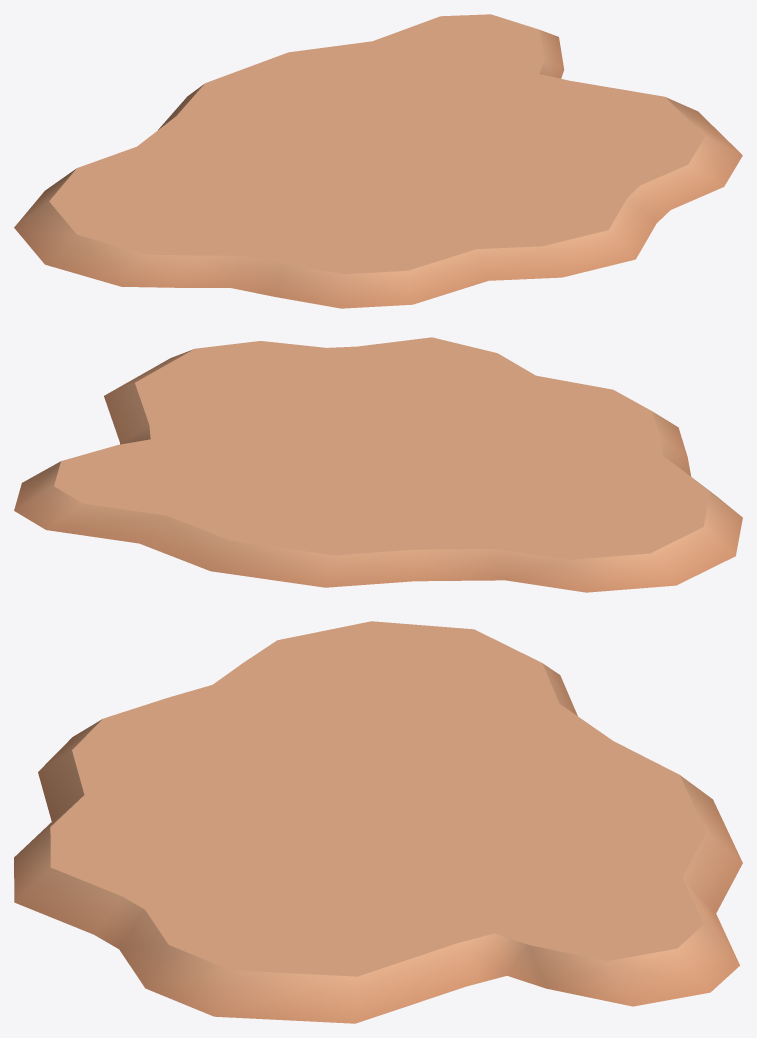
Rendered from patch-sand.glb.
3 renders of one model, top to bottom at view 1: azimuth 30°, elevation 25°; view 2: azimuth 150°, elevation 25°; view 3: azimuth 270°, elevation 25°, orthographic. The views are drawn at different scales.
Parts seen in each view (by area): view 1: patch-sand; view 2: patch-sand; view 3: patch-sand.
Boxes of the visible parts, x1,y1,x2,y2 form: patch-sand: (14, 14, 742, 308); patch-sand: (14, 337, 742, 592); patch-sand: (14, 621, 742, 1023).
Size of the model in its own units: 7.74 by 0.25 by 6.04.
1 material, 1 textured.
